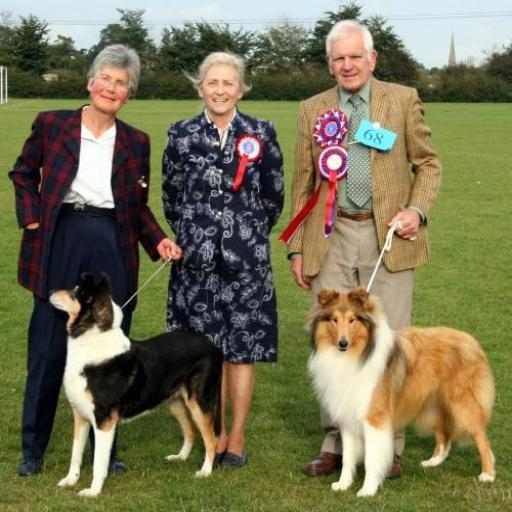dog_face: (310, 286, 382, 363)
